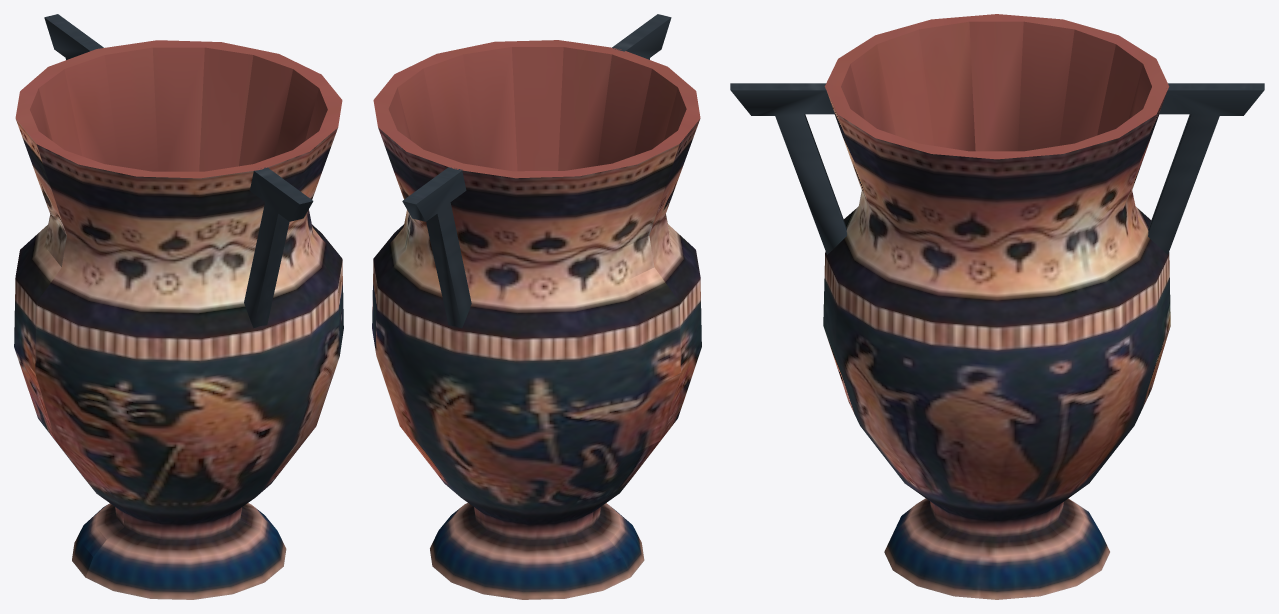
File: example10.obj
3 renders of one model, left to right at view 1: azimuth 30°, elevation 25°; view 2: azimuth 150°, elevation 25°; view 3: azimuth 270°, elevation 25°, orthographic. The views are drawn at different scales.
Parts seen in each view (by area): view 1: vase1; view 2: vase1; view 3: vase1.
Part boxes in pixels (left/top/right/bottom): vase1: left=14, top=14, right=343, bottom=599; vase1: left=372, top=14, right=701, bottom=599; vase1: left=730, top=14, right=1264, bottom=599.
Bounding box in the file's own units: 72.9 × 108 × 112.
1 material, 1 textured.
